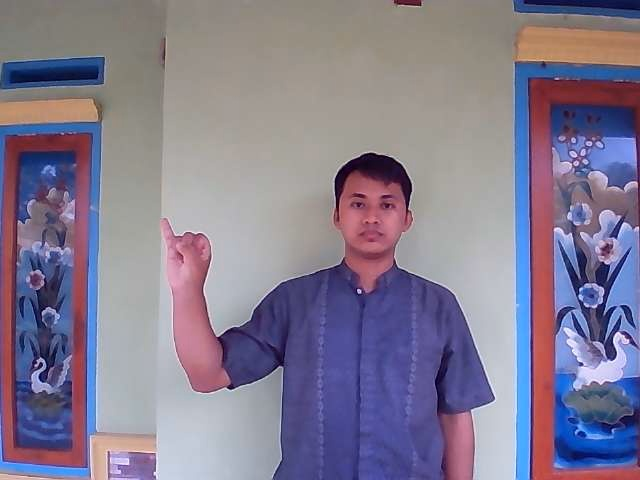I: (150, 213, 220, 300)
